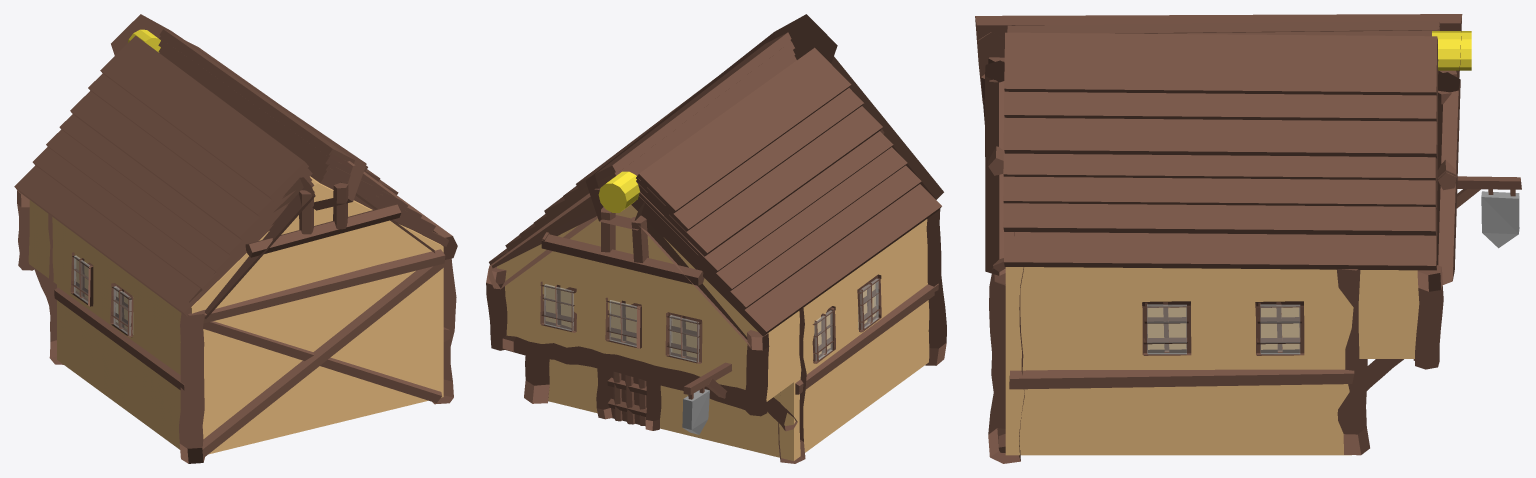
The model's file is smithy.glb.
3 views of the same model, side by side, from view 1: azimuth 30°, elevation 25°; view 2: azimuth 150°, elevation 25°; view 3: azimuth 270°, elevation 25° (orthographic). The views are drawn at different scales.
Visible parts, largest first — view 1: group830312336, group1447111463, group37220838, group810287921, group1901645501, group209125259, group191752589, group808201375, group1434448096, group114690362, group944361572, group643876444 (+24 smaller); view 2: group830312336, group1447111463, group37220838, group1901645501, group808201375, group191752589, group1434448096, group114690362, group509014928, group643876444, group1734072472, group961030945 (+31 smaller); view 3: group830312336, group1762752675, group1379083072, group1844862876, group757094502, group1230734217, group74960514, group375818919, group981767348, group429225084, group1965199662, group310361575 (+14 smaller).
Boxes of the visible parts, x1,y1,x2,y2 form: group830312336: (28, 176, 443, 379); group1447111463: (100, 35, 308, 201); group37220838: (14, 165, 314, 317); group810287921: (317, 326, 425, 427); group1901645501: (70, 91, 312, 241); group209125259: (209, 358, 317, 453); group191752589: (46, 129, 311, 275); group808201375: (32, 147, 314, 291); group1434448096: (88, 73, 309, 218); group114690362: (59, 114, 311, 257); group944361572: (202, 263, 445, 457); group643876444: (67, 292, 129, 412); group830312336: (497, 205, 927, 401); group1447111463: (636, 47, 851, 213); group37220838: (631, 184, 941, 336); group1901645501: (636, 106, 882, 256); group808201375: (634, 165, 921, 311); group191752589: (638, 147, 907, 291); group1434448096: (636, 88, 863, 231); group114690362: (639, 131, 893, 272); group509014928: (680, 377, 804, 460); group643876444: (804, 327, 869, 452); group1734072472: (502, 335, 748, 410); group961030945: (870, 285, 929, 404); group830312336: (1005, 267, 1419, 358); group1762752675: (1004, 32, 1437, 96); group1379083072: (1004, 59, 1438, 158); group1844862876: (1004, 71, 1438, 270); group757094502: (1165, 359, 1325, 455); group1230734217: (1005, 359, 1165, 455); group74960514: (1003, 158, 1436, 235); group375818919: (1003, 170, 1436, 208); group981767348: (1004, 56, 1437, 122); group429225084: (1003, 49, 1436, 182); group1965199662: (1009, 369, 1354, 389); group310361575: (975, 14, 1462, 103).
Bounding box in the file's own units: 0.6053 × 0.6153 × 0.8217.
